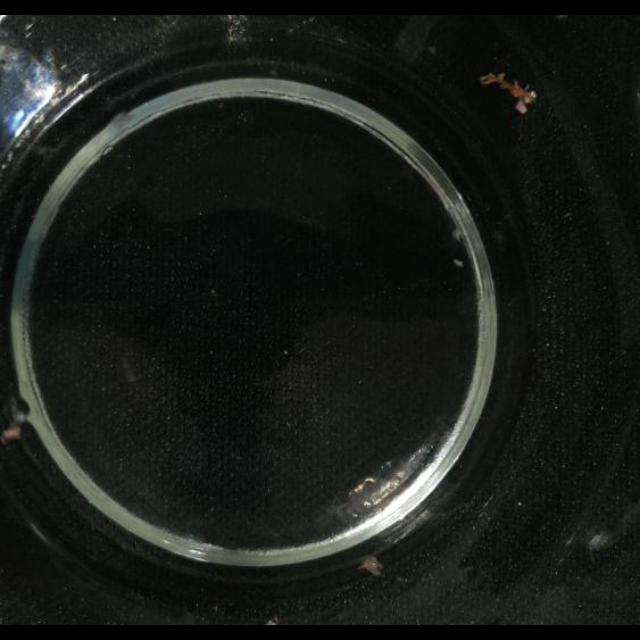Fragment: (478, 70, 542, 118), (0, 388, 30, 449), (360, 554, 386, 584)
